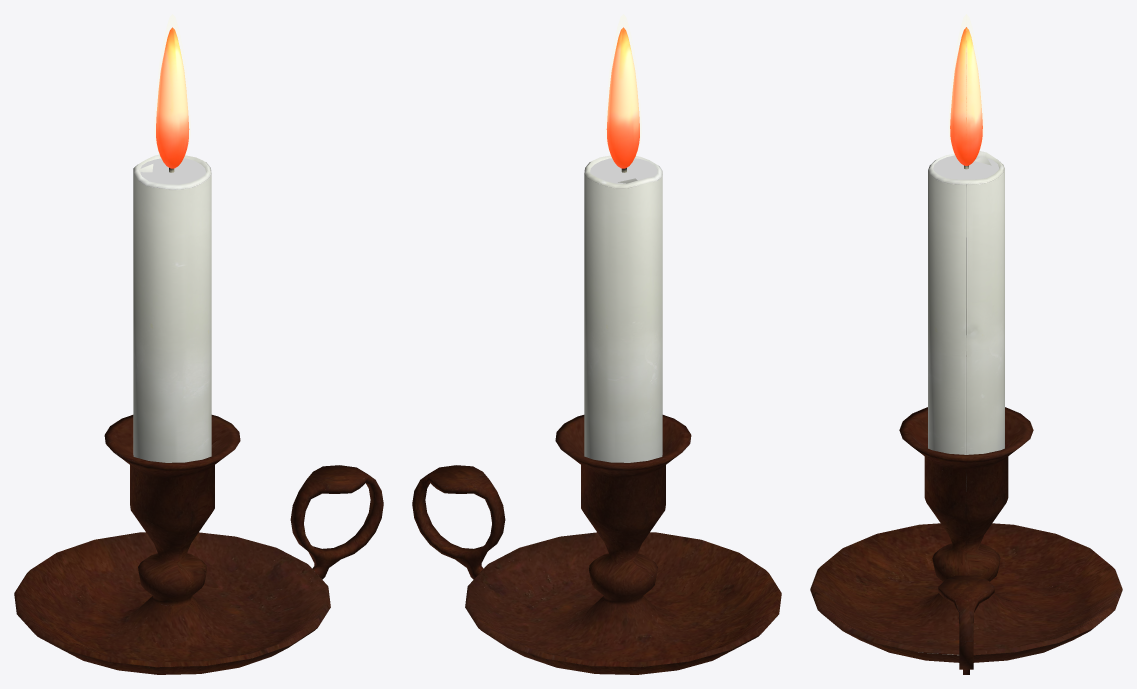
Rendered from candle.glb.
3 renders of one model, left to right at view 1: azimuth 30°, elevation 25°; view 2: azimuth 150°, elevation 25°; view 3: azimuth 270°, elevation 25°, orthographic.
Parts seen in each view (by area): view 1: Sphere, Sphere.002, Cylinder; view 2: Sphere, Sphere.002, Cylinder; view 3: Sphere, Sphere.002, Cylinder.
Boxes of the visible parts, x1,y1,x2,y2 form: Sphere: [14, 154, 383, 674]; Sphere.002: [156, 27, 189, 168]; Cylinder: [140, 158, 205, 184]; Sphere: [412, 155, 781, 674]; Sphere.002: [606, 27, 639, 168]; Cylinder: [590, 158, 657, 183]; Sphere: [810, 151, 1122, 674]; Sphere.002: [950, 27, 982, 165]; Cylinder: [933, 155, 998, 179].
Bounding box in the file's own units: 2.02 × 3.43 × 1.61.
4 materials, 4 textured.
